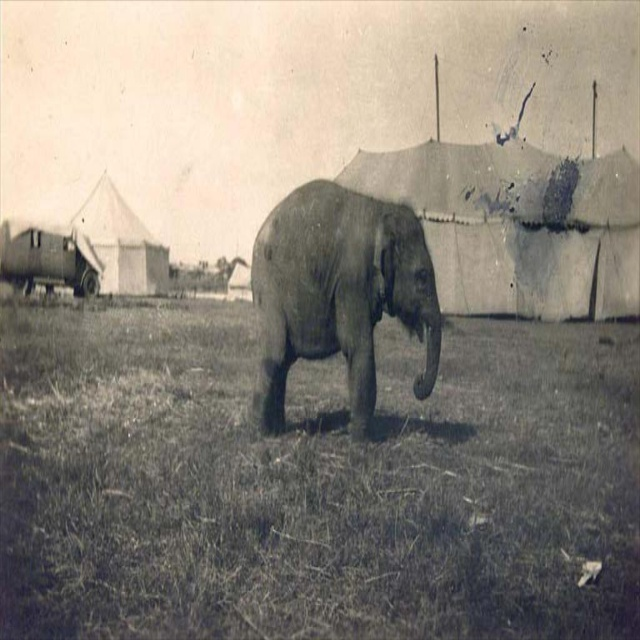Elephant: (248, 179, 442, 442)
